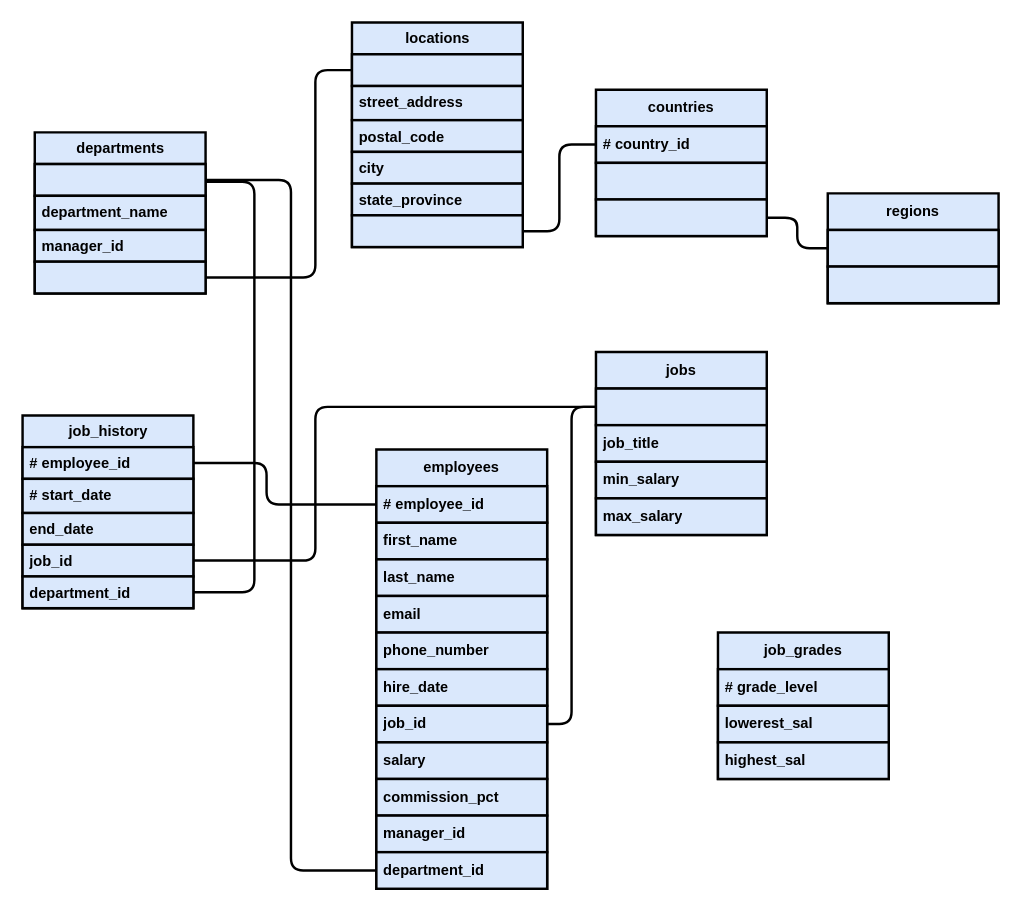
This 1020x910 diagram has some shape labels left out. Here are the shapes that lost their labels. From the top down, the centre of each, then its label:
point (436, 69): # location_id
point (119, 179): # department_id
point (680, 180): country_name
point (436, 231): coutry_id
point (680, 217): region_id
point (912, 247): # region_id
point (119, 277): location_id
point (912, 284): region_name
point (680, 406): # job_id
